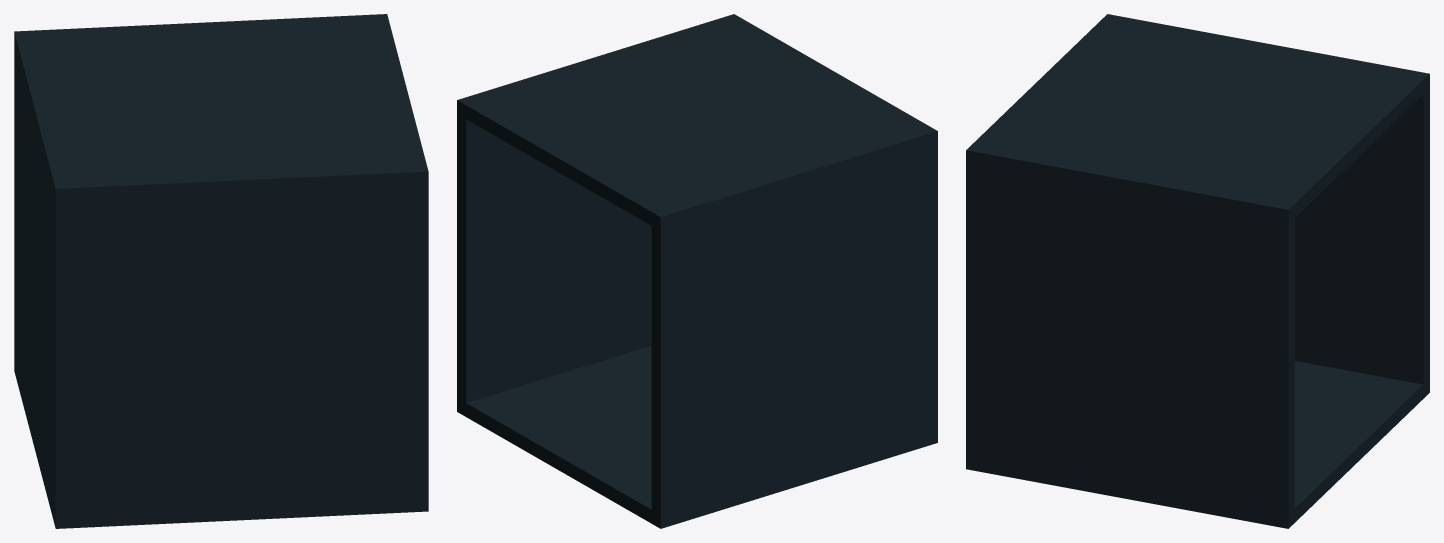
Rendered from 011_Shadow_TreasureBox.fbx.
3 renders of one model, left to right at view 1: azimuth 30°, elevation 25°; view 2: azimuth 150°, elevation 25°; view 3: azimuth 270°, elevation 25°, orthographic. The views are drawn at different scales.
Parts seen in each view (by area): view 1: Cube.020; view 2: Cube.020; view 3: Cube.020.
Part boxes in pixels (bbox=[...]): Cube.020: bbox=[14, 14, 428, 528]; Cube.020: bbox=[457, 14, 937, 528]; Cube.020: bbox=[966, 14, 1429, 528].
Size of the model in its own units: 152 by 115 by 152.
